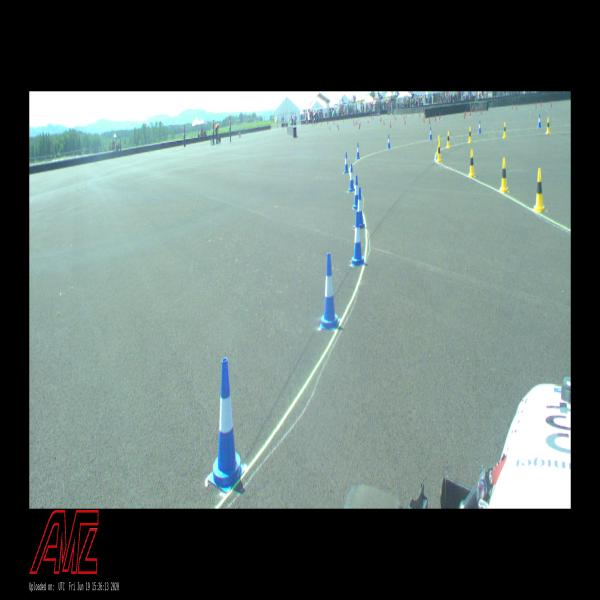blue_cone: (208, 357, 246, 493), (319, 253, 340, 329), (352, 212, 364, 266), (357, 188, 365, 228), (348, 164, 355, 192), (353, 175, 358, 209), (344, 152, 349, 173), (356, 143, 360, 159), (387, 134, 391, 149), (538, 114, 542, 128), (478, 120, 482, 134), (429, 127, 432, 140)
yellow_cone: (534, 168, 545, 213), (500, 157, 508, 193), (468, 149, 476, 178), (436, 141, 442, 162), (546, 117, 550, 134), (468, 126, 472, 143), (502, 122, 506, 138), (437, 135, 440, 154), (447, 130, 450, 148)
